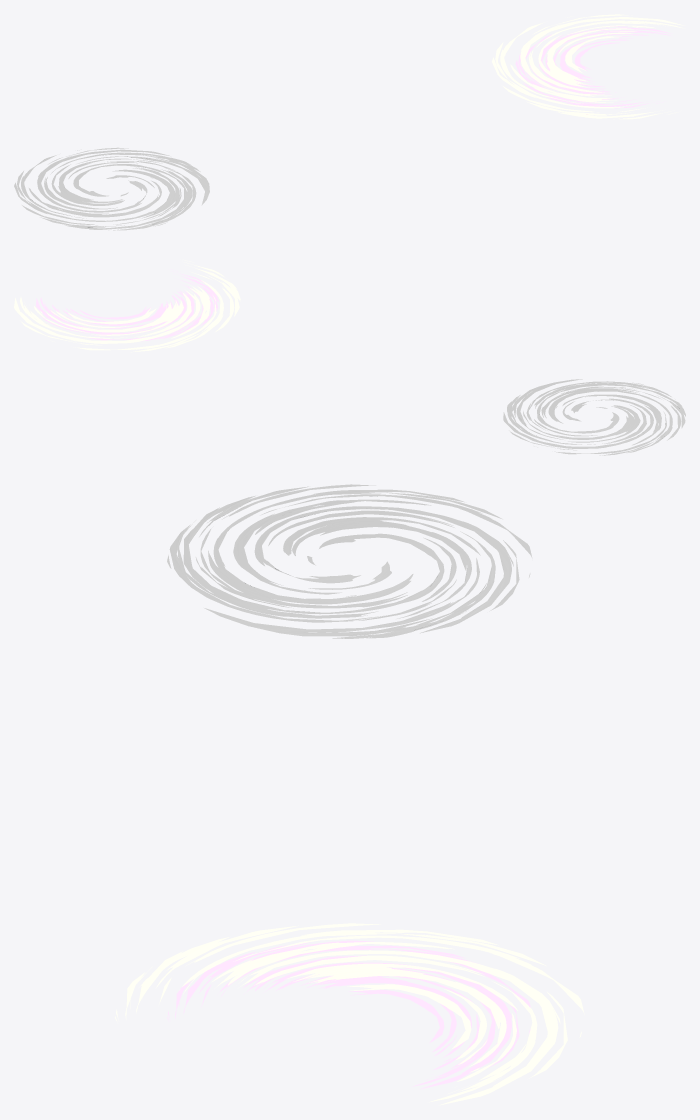
Rendered from slashvfx.fbx.
3 renders of one model, top to bottom at view 1: azimuth 30°, elevation 25°; view 2: azimuth 150°, elevation 25°; view 3: azimuth 270°, elevation 25°, orthographic. The views are drawn at different scales.
Visible parts, largest first — view 1: Circle.001, Circle.002, Circle; view 2: Circle.001, Circle.002, Circle; view 3: Circle.001, Circle.002, Circle.
Boxes of the visible parts, x1,y1,x2,y2 form: Circle.001: (14,147,209,230); Circle.002: (492,14,684,119); Circle: (515,26,672,108); Circle.001: (503,379,685,455); Circle.002: (14,259,240,352); Circle: (36,269,218,341); Circle.001: (167,484,532,638); Circle.002: (115,923,584,1105); Circle: (167,940,530,1089).
Size of the model in its own units: 1409 by 3.72 by 451.
